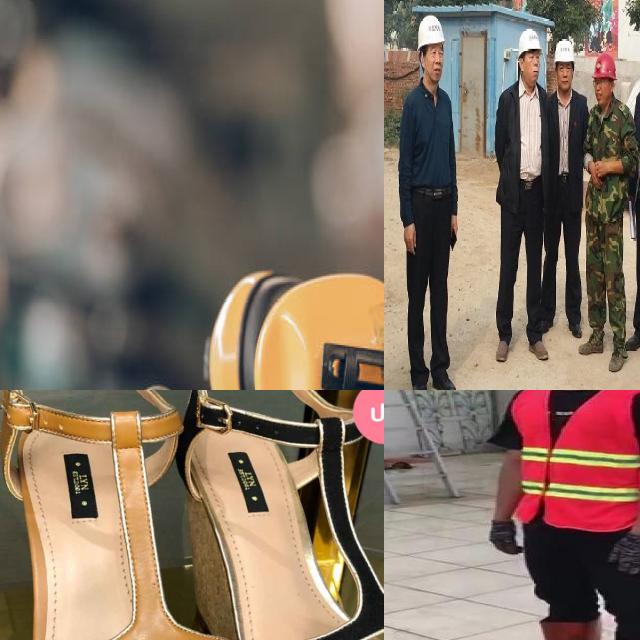Ear-protection: (196, 261, 384, 390)
No_Ear-Protection: (416, 12, 448, 83), (516, 25, 542, 93), (554, 39, 578, 97), (591, 54, 618, 105)
Sandals: (0, 390, 260, 640), (138, 390, 384, 640)
boots: (506, 620, 604, 640)
person: (478, 390, 640, 640)
vest: (505, 390, 640, 533)
